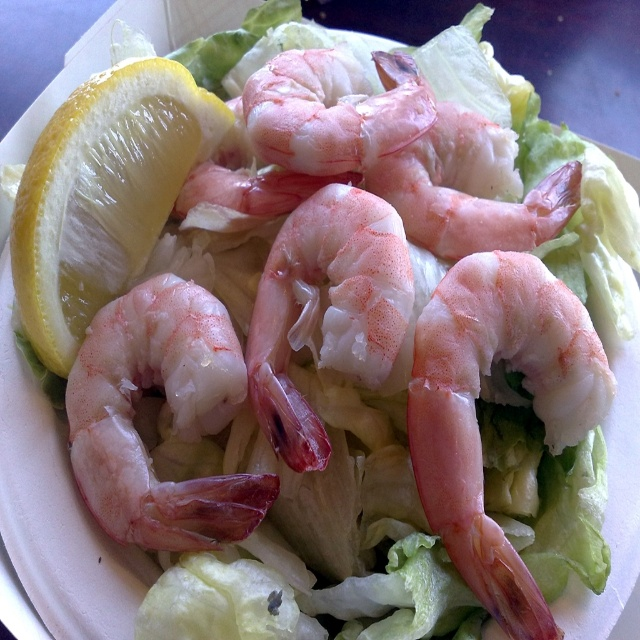Shrimp: (66, 48, 615, 640)
